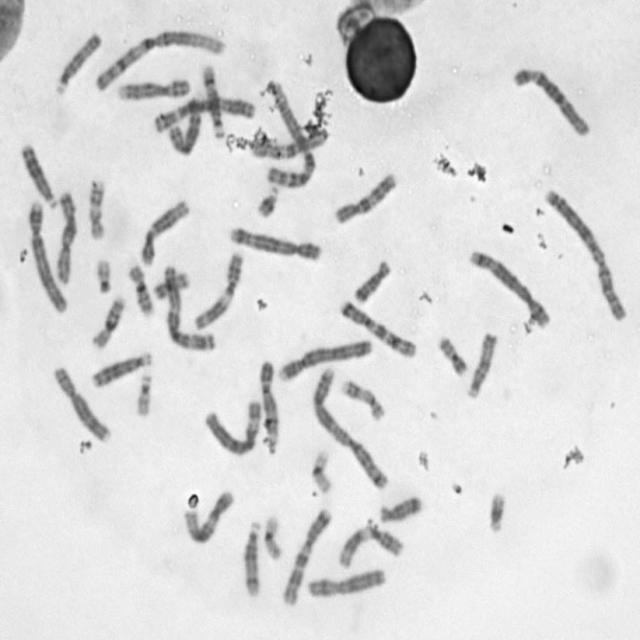A1: (92, 29, 228, 93), (262, 78, 318, 190)
A2: (544, 187, 628, 323), (310, 365, 390, 490)
A3: (162, 262, 218, 354), (152, 94, 256, 134)
B4: (26, 200, 70, 315), (276, 338, 374, 385)
B5: (470, 248, 551, 328), (228, 224, 322, 264)
C10: (331, 170, 400, 228), (250, 127, 330, 161)
C11: (192, 251, 244, 332), (335, 524, 404, 571)
C12: (140, 198, 192, 266), (184, 490, 234, 546)
C6: (511, 64, 592, 140), (204, 398, 261, 459)
C7: (280, 507, 331, 607), (341, 296, 418, 358)
C8: (53, 365, 111, 446), (168, 96, 204, 155)
C9: (257, 358, 281, 453), (116, 78, 191, 102)
D13: (19, 140, 60, 211), (90, 350, 155, 387)
D14: (200, 63, 226, 140), (243, 519, 262, 599)
D15: (54, 30, 104, 96), (466, 332, 499, 401)
E16: (91, 295, 126, 352), (128, 263, 156, 318)
E17: (338, 380, 386, 426), (87, 178, 107, 242)
E18: (354, 258, 393, 306), (380, 495, 422, 525)
F19: (308, 450, 334, 494), (263, 514, 282, 562)
F20: (437, 334, 468, 376), (151, 270, 190, 302)
G21: (484, 488, 510, 536), (256, 184, 279, 221)
G22: (135, 372, 154, 419), (94, 257, 114, 296)
X: (307, 566, 388, 600), (54, 189, 78, 287)
